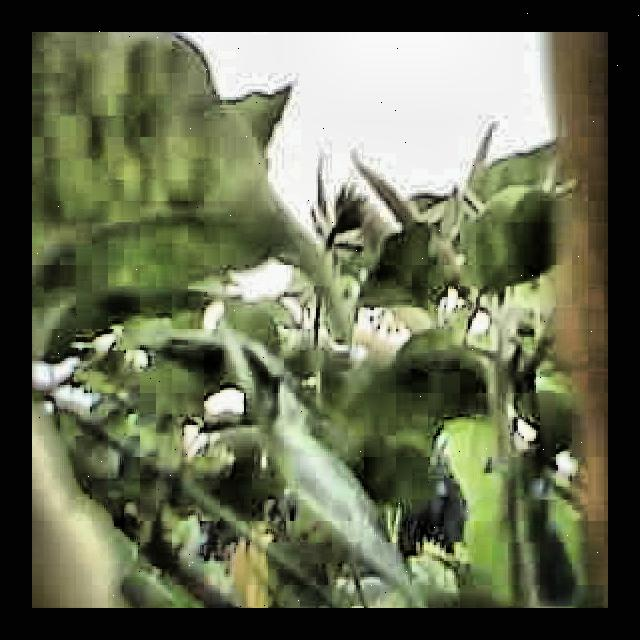Cabai: (32, 341, 103, 608)
